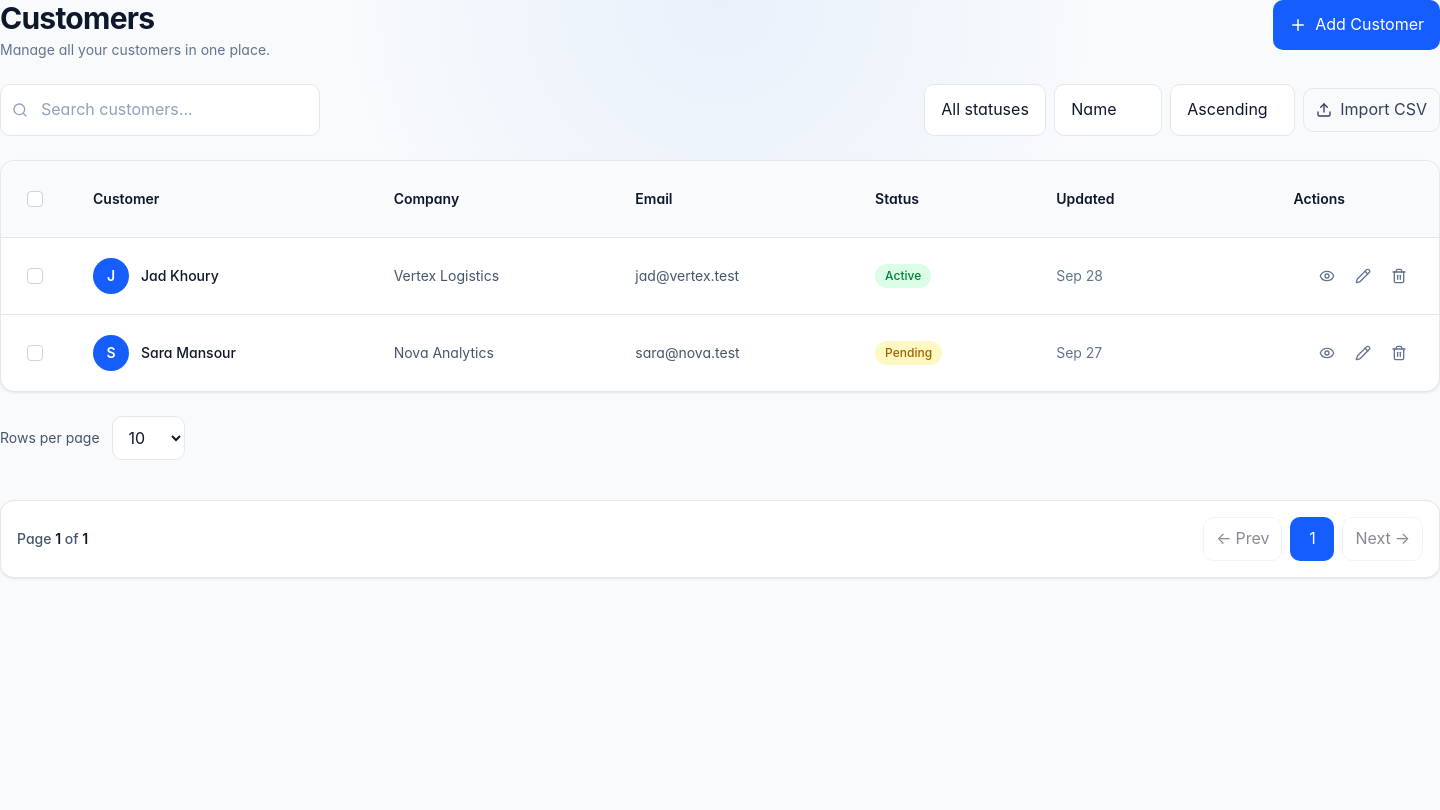
Customers — delete › asks for confirmation naming the record
Click the button named "delete jad khoury".
click(1399, 276)  # box left=1383, top=260, right=1415, bottom=292
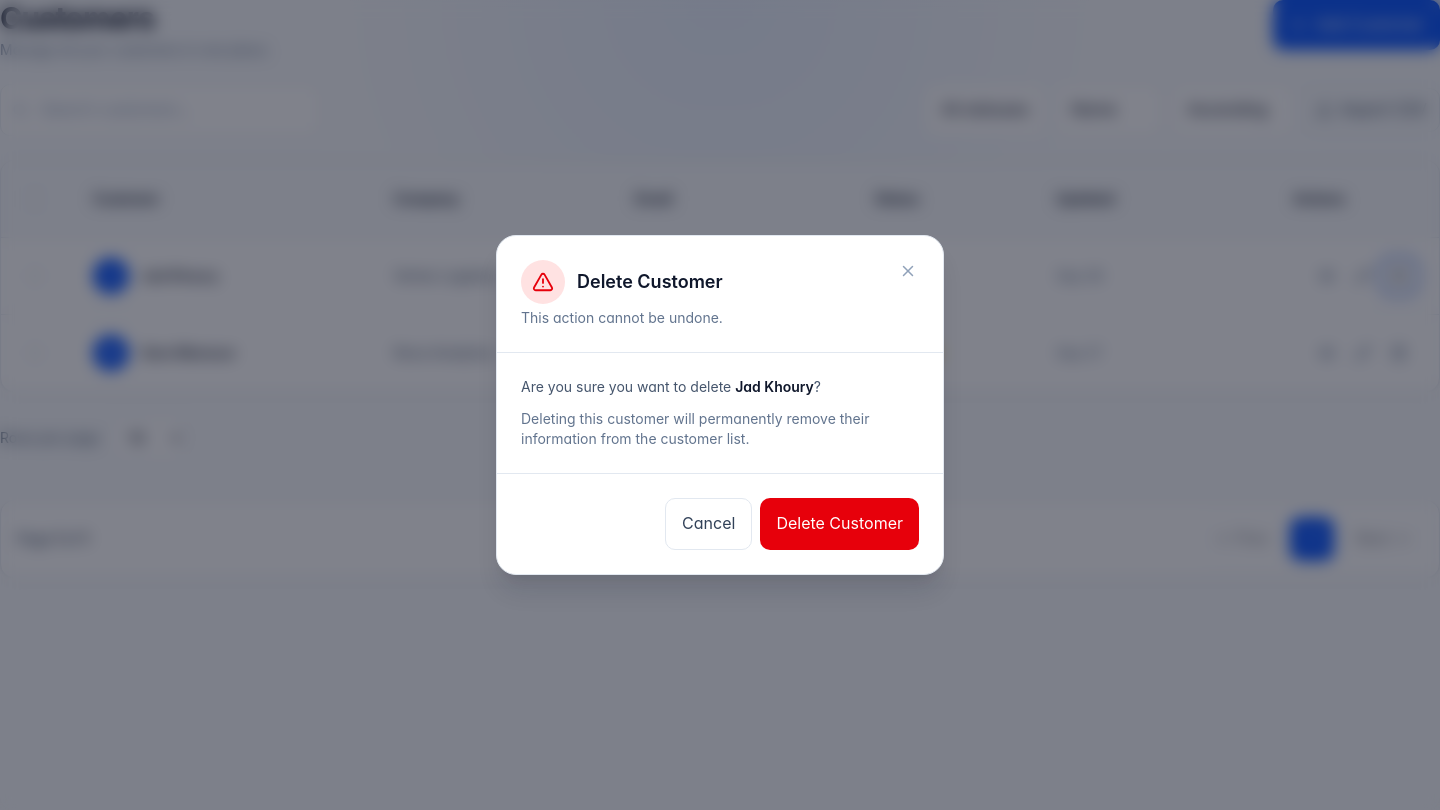
Now the dialog shows "jad khoury", box left=735, top=378, right=814, bottom=395
